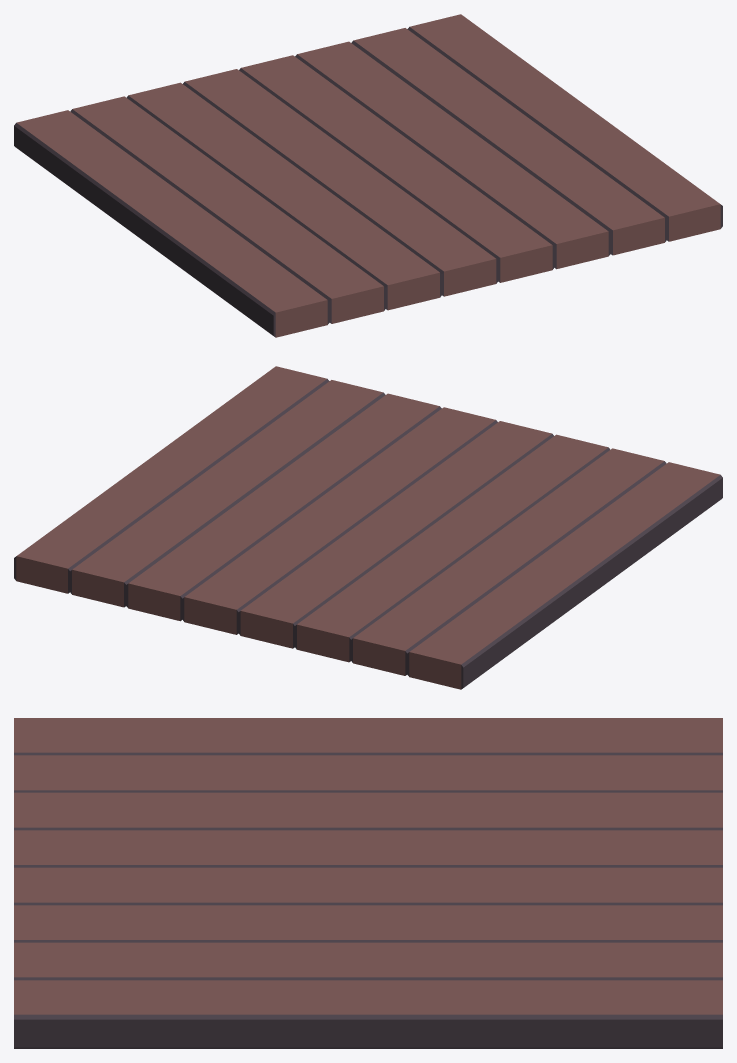
The model's file is Planks.fbx.
The picture shows the model from 3 angles, top to bottom: view 1: azimuth 30°, elevation 25°; view 2: azimuth 150°, elevation 25°; view 3: azimuth 270°, elevation 25°; orthographic projection. The views are drawn at different scales.
Visible parts, largest first — view 1: Planks; view 2: Planks; view 3: Planks.
Part boxes in pixels (x1,y1,x2,y2): Planks: (14,14,722,337); Planks: (14,366,722,689); Planks: (14,718,722,1048).
Bounding box in the file's own units: 600 × 32.08 × 600.
